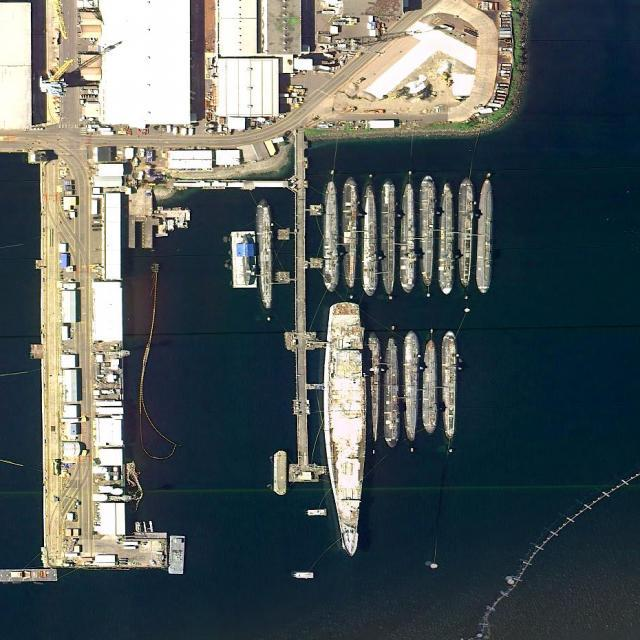Dock: (279, 173, 322, 479)
Submarine: (361, 182, 380, 297), (378, 181, 396, 292), (438, 184, 456, 294), (401, 332, 419, 440), (323, 181, 338, 292), (442, 332, 456, 438), (343, 176, 356, 288), (478, 180, 491, 292), (259, 200, 272, 309), (385, 338, 398, 447), (423, 340, 436, 434), (421, 176, 432, 286), (403, 184, 414, 292), (460, 178, 471, 286), (369, 334, 378, 445), (244, 235, 250, 285)
